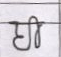i_matra: (30, 15, 43, 48)
